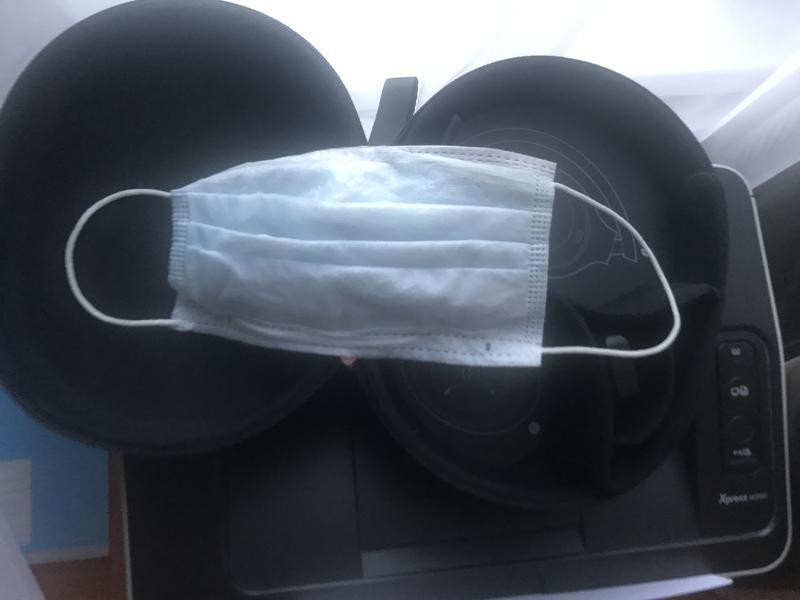medical_mask: (62, 145, 680, 369)
